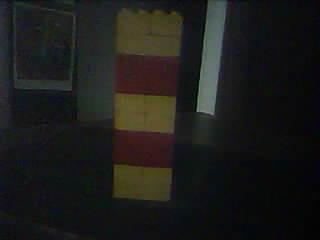lego: (113, 6, 182, 201)
